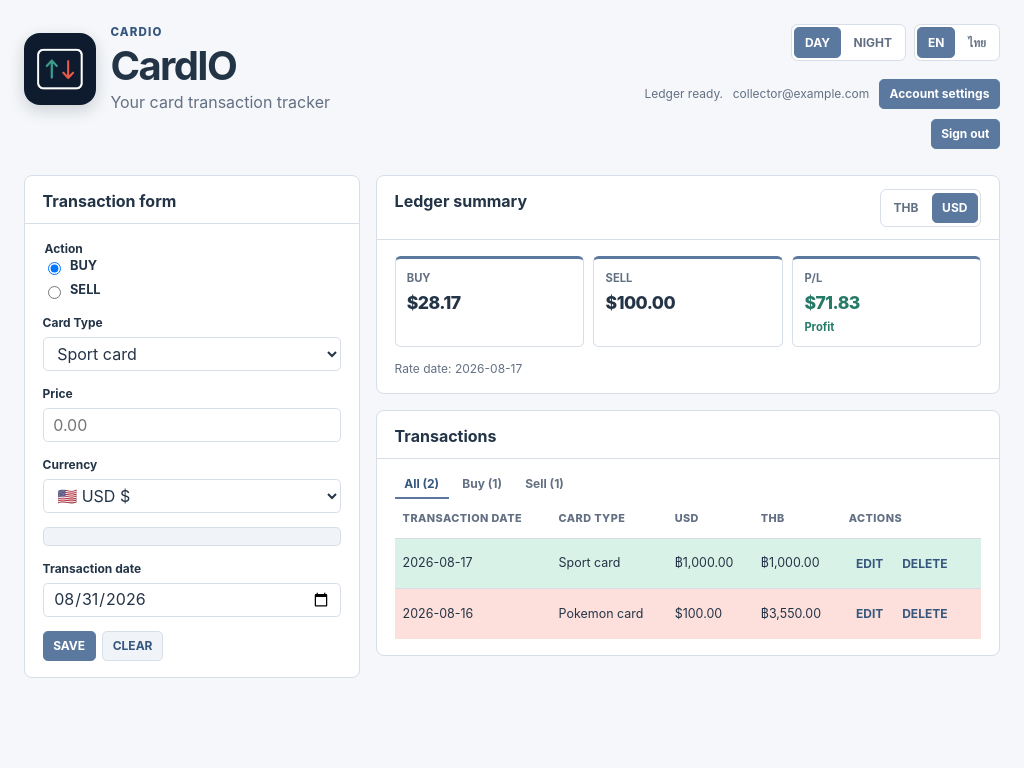
Scenario: App › clears active edit state when sign-out succeeds
expect the button "Sign out" is shown: met, box left=931, top=119, right=1000, bottom=149
What coordinates should you click on to do the following:
click the button with aria-label "Edit Sport card"
I would click on:
 (870, 563)
Its box is left=849, top=550, right=891, bottom=577.
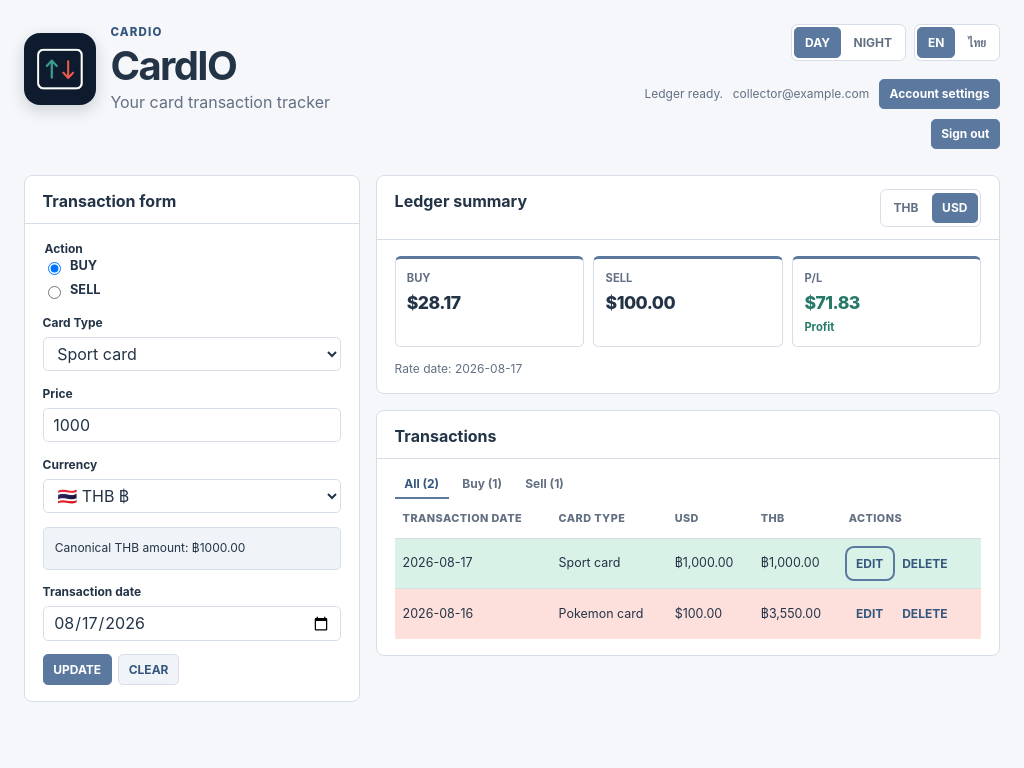
expect the field labelled "Price" holds "1000": met, box left=43, top=408, right=341, bottom=442
What coordinates should you click on to do the following:
click the button "Sign out"
I would click on:
 (965, 134)
Its box is left=931, top=119, right=1000, bottom=149.
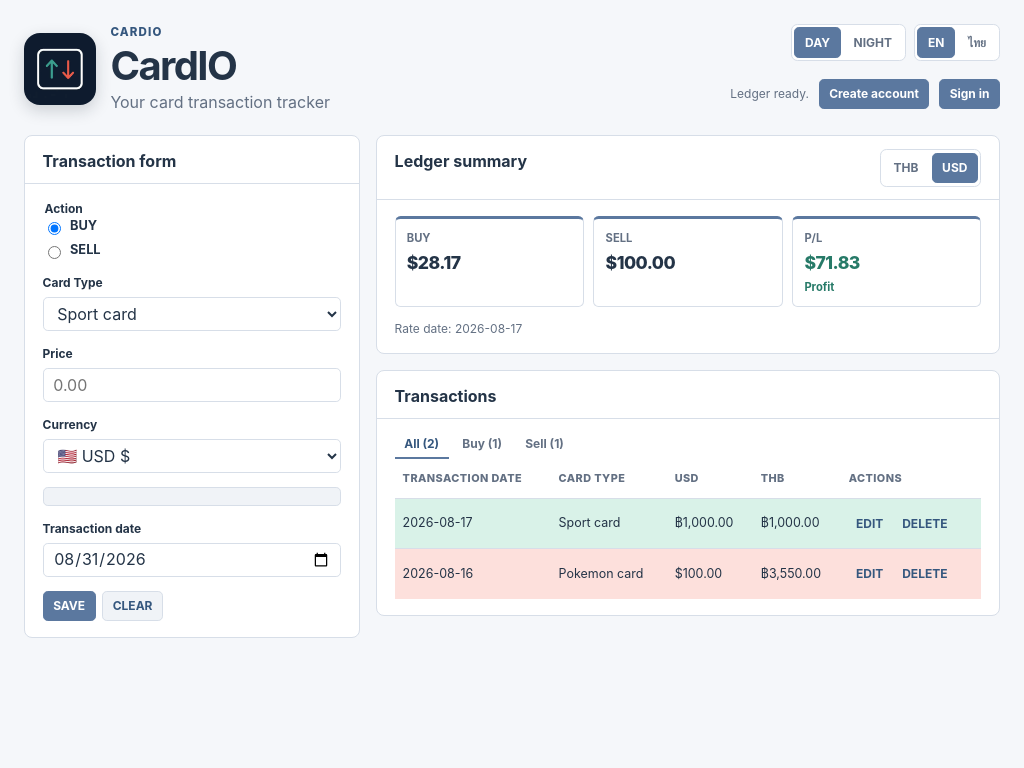
expect the button "Create account" is shown: met, box left=818, top=79, right=930, bottom=109
expect the field labelled "Price" is empty: met, box left=43, top=368, right=341, bottom=402
